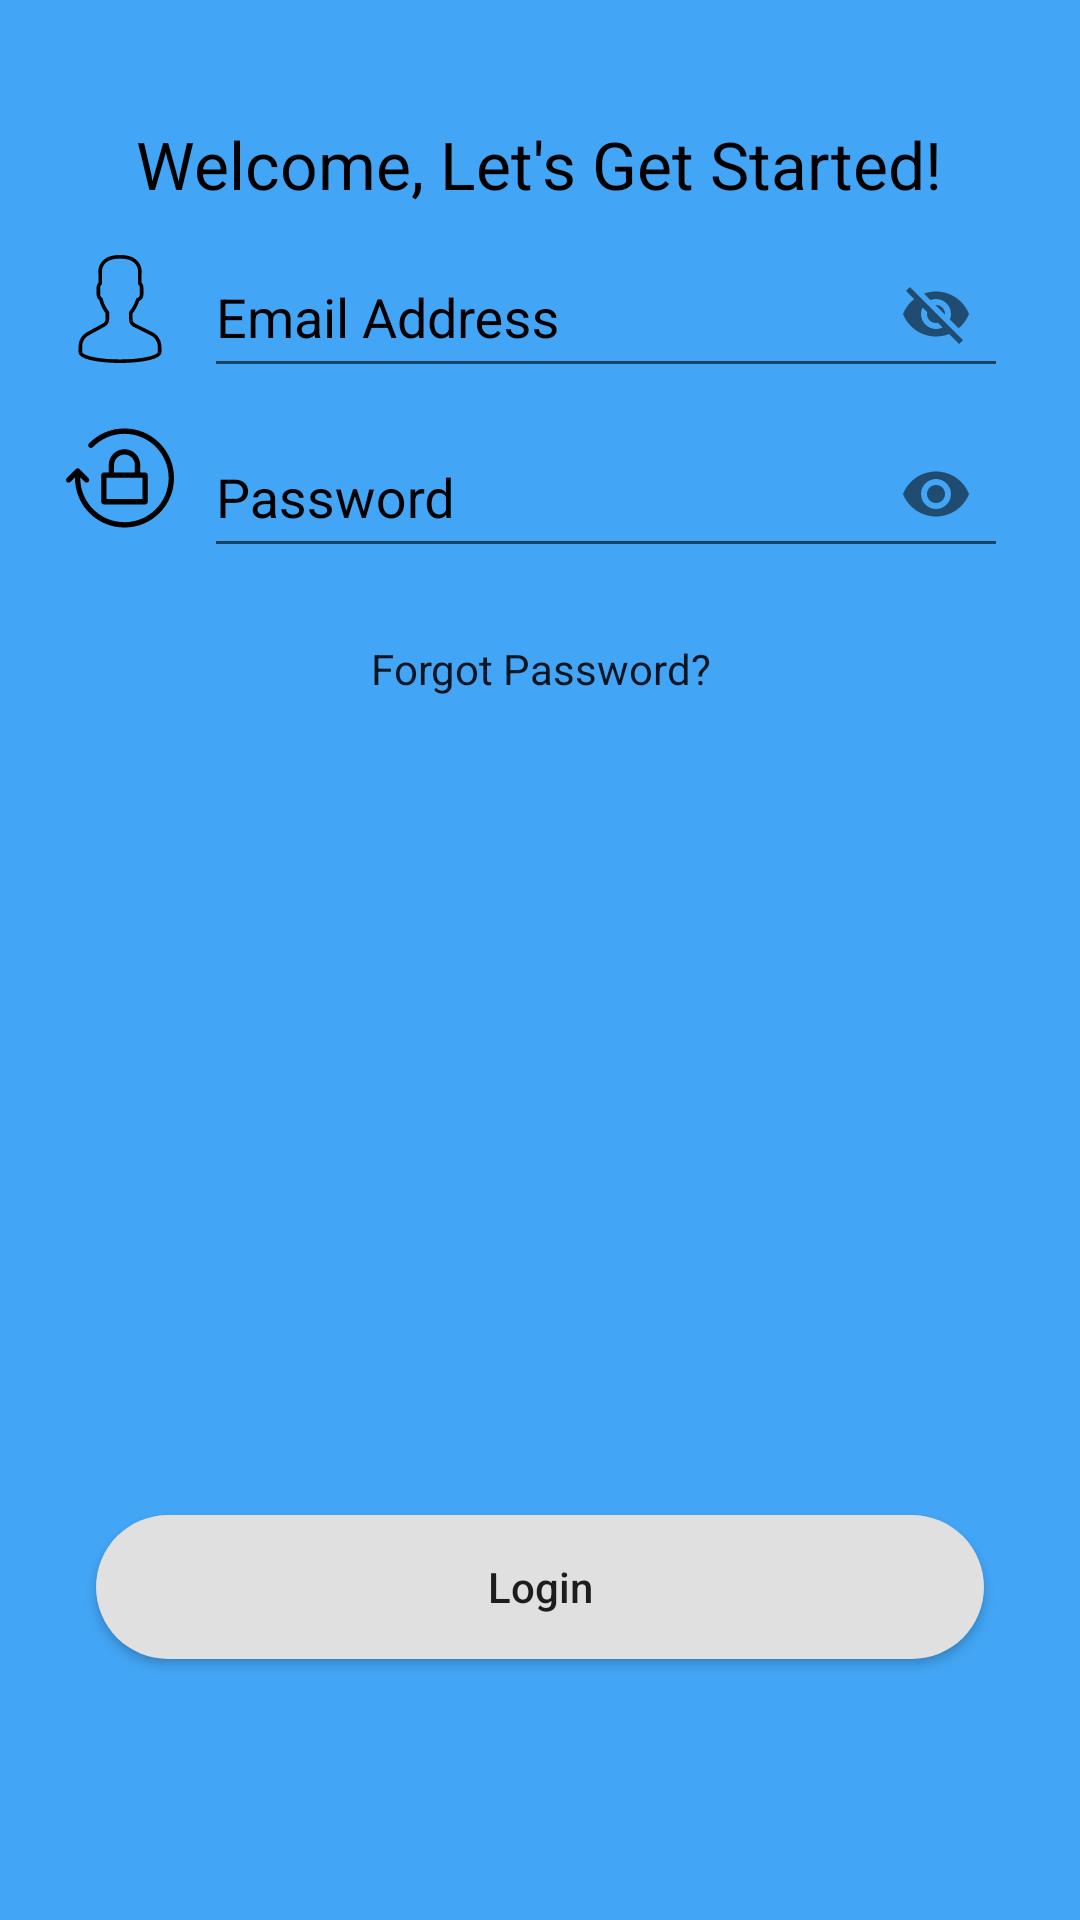

Screen size 1080 × 1920. Icon name, then its center in pixels as point (x, y):
padlock: point (120, 478)
user: point (120, 309)
